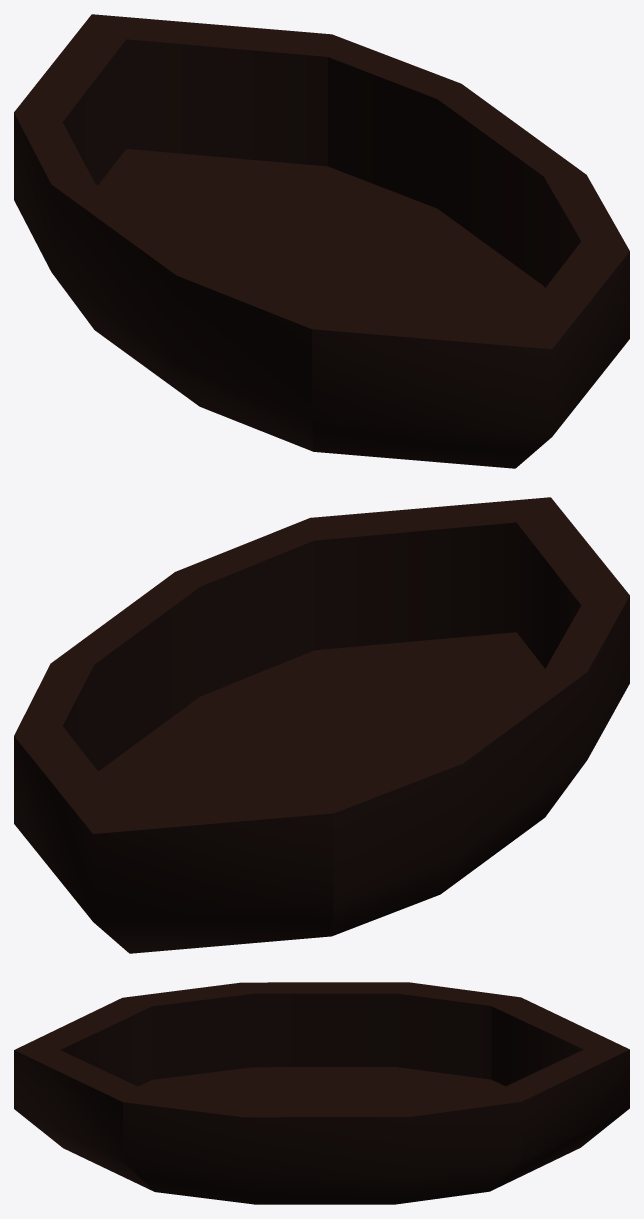
File: Boat.fbx
3 views of the same model, one above another, from view 1: azimuth 30°, elevation 25°; view 2: azimuth 150°, elevation 25°; view 3: azimuth 270°, elevation 25° (orthographic). The views are drawn at different scales.
Visible parts, largest first — view 1: Boat; view 2: Boat; view 3: Boat.
Part boxes in pixels (x1,y1,x2,y2): Boat: (14,14,629,468); Boat: (14,497,629,953); Boat: (14,982,629,1204).
Size of the model in its own units: 1.6 by 0.5433 by 3.09.
